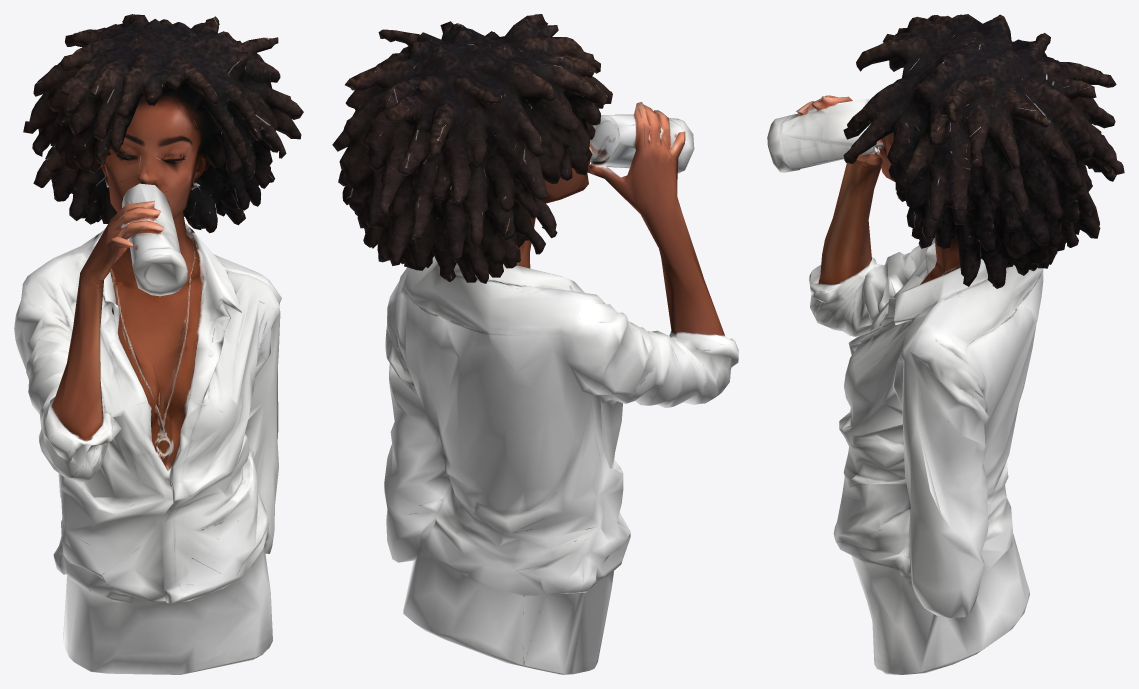
Rendered from Meshy_AI_Hydration_in_Style_0705043147_texture.glb.
3 renders of one model, left to right at view 1: azimuth 30°, elevation 25°; view 2: azimuth 150°, elevation 25°; view 3: azimuth 270°, elevation 25°, orthographic. The views are drawn at different scales.
Visible parts, largest first — view 1: Mesh1.0; view 2: Mesh1.0; view 3: Mesh1.0.
Part boxes in pixels (left/top/right/bottom): Mesh1.0: left=14, top=14, right=303, bottom=674; Mesh1.0: left=332, top=14, right=738, bottom=674; Mesh1.0: left=767, top=14, right=1124, bottom=674.
Bounding box in the file's own units: 1 × 1.91 × 1.02.
Materials: 1 (1 with a texture image).
